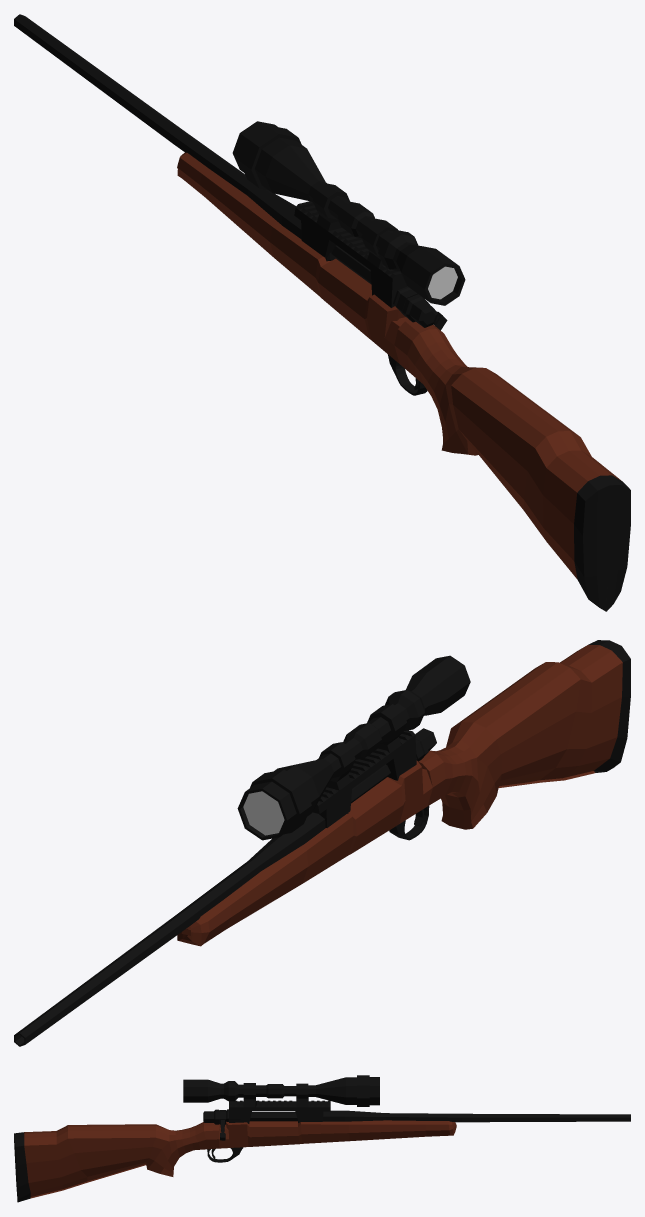
The model's file is gun.gltf.
The picture shows the model from 3 angles, top to bottom: view 1: azimuth 30°, elevation 25°; view 2: azimuth 150°, elevation 25°; view 3: azimuth 270°, elevation 25°; orthographic projection. The views are drawn at different scales.
Parts seen in each view (by area): view 1: Cube.002, Cube.001, Cylinder; view 2: Cube.002, Cube.001, Cylinder; view 3: Cube.002, Cube.001, Cylinder.
Part boxes in pixels (<box>): Cube.002: <box>177,152,630,611</box>; Cube.001: <box>232,121,465,307</box>; Cylinder: <box>14,14,447,330</box>; Cube.002: <box>177,640,630,946</box>; Cube.001: <box>237,655,470,840</box>; Cylinder: <box>14,728,436,1046</box>; Cube.002: <box>14,1120,456,1202</box>; Cube.001: <box>183,1075,379,1123</box>; Cylinder: <box>203,1109,630,1140</box>.
Size of the model in its own units: 0.5968 by 2.1 by 9.31.
